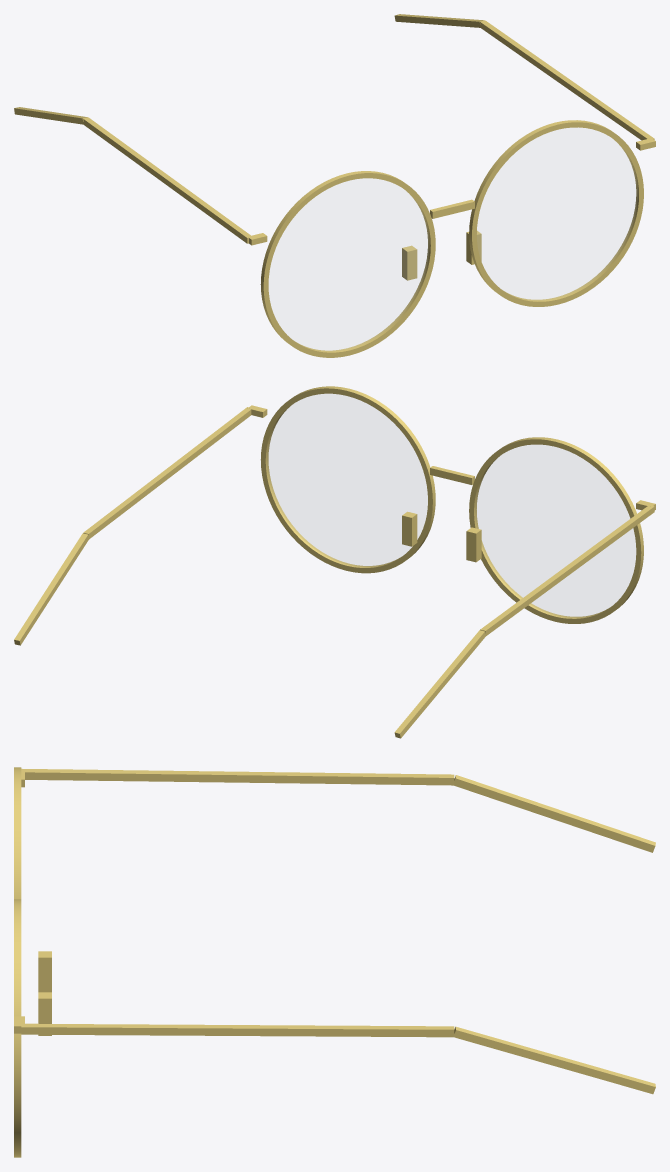
Rendered from frame-02.glb.
3 renders of one model, top to bottom at view 1: azimuth 30°, elevation 25°; view 2: azimuth 150°, elevation 25°; view 3: azimuth 270°, elevation 25°, orthographic. The views are drawn at different scales.
Visible parts, largest first — view 1: Glasses; view 2: Glasses; view 3: Glasses.
Part boxes in pixels (x1,y1,x2,y2): Glasses: (14, 14, 655, 357); Glasses: (14, 386, 655, 738); Glasses: (14, 767, 655, 1157).
Size of the model in its own units: 0.14 by 0.0592 by 0.147.
